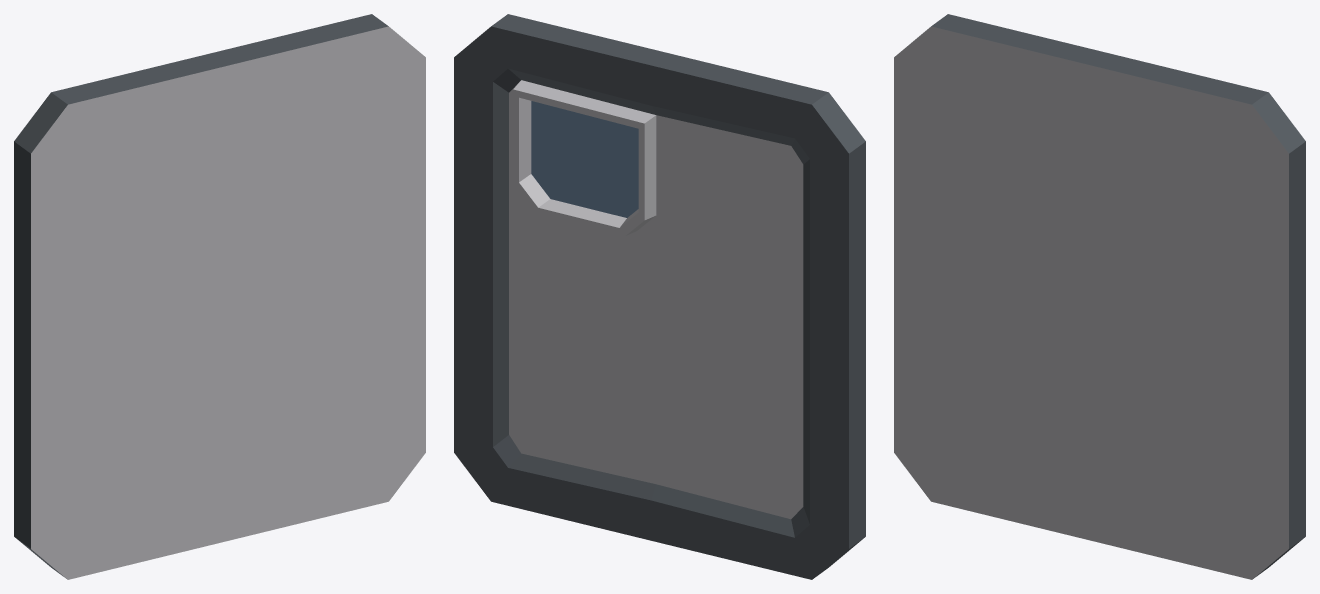
Rendered from Mothership_01_Cargo_Door.fbx.
The picture shows the model from 3 angles, left to right: view 1: azimuth 30°, elevation 25°; view 2: azimuth 150°, elevation 25°; view 3: azimuth 330°, elevation 25°; orthographic projection.
Visible parts, largest first — view 1: Mothership_01_Cargo_Door; view 2: Mothership_01_Cargo_Door; view 3: Mothership_01_Cargo_Door.
Boxes of the visible parts, x1=… form: Mothership_01_Cargo_Door: x1=14, y1=14, x2=425, y2=579; Mothership_01_Cargo_Door: x1=454, y1=14, x2=865, y2=579; Mothership_01_Cargo_Door: x1=894, y1=14, x2=1305, y2=579.
Size of the model in its own units: 1289 by 1481 by 125.
2 materials, 2 textured.
